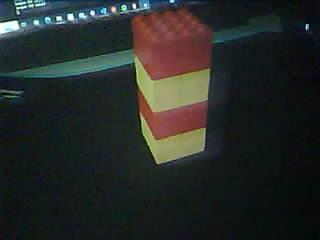lego: (130, 9, 214, 163)
